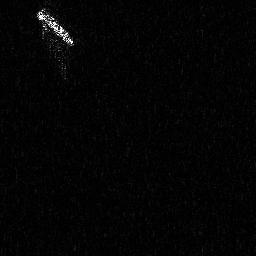ship: (35, 5, 78, 48)
